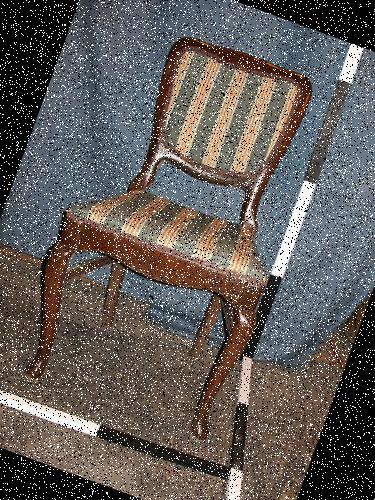Silla: (19, 21, 340, 438)
